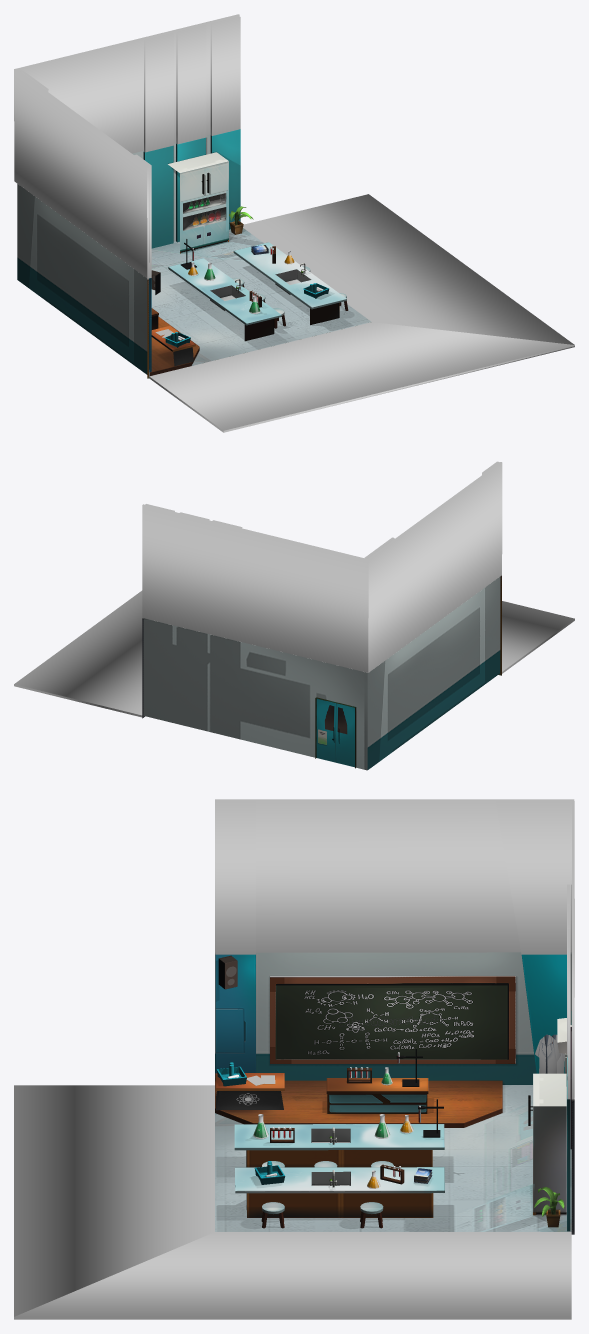
The model's file is Tx_Interior_Education_Science_20170727.fbx.
The picture shows the model from 3 angles, top to bottom: view 1: azimuth 30°, elevation 25°; view 2: azimuth 150°, elevation 25°; view 3: azimuth 270°, elevation 25°; orthographic projection. The views are drawn at different scales.
Parts seen in each view (by area): view 1: Tx_Interior_Education_Computing_20170703:polySurface798, Tx_Interior_Education_Computing_20170703:group12, Tx_Interior_Education_Computing_20170703:polySurface795; view 2: Tx_Interior_Education_Computing_20170703:polySurface798, Tx_Interior_Education_Computing_20170703:group12; view 3: Tx_Interior_Education_Computing_20170703:polySurface798, Tx_Interior_Education_Computing_20170703:group12, Tx_Interior_Education_Computing_20170703:polySurface795.
Part boxes in pixels (x1,y1,x2,y2): Tx_Interior_Education_Computing_20170703:polySurface798: [14, 14, 574, 432]; Tx_Interior_Education_Computing_20170703:group12: [17, 129, 371, 378]; Tx_Interior_Education_Computing_20170703:polySurface795: [171, 246, 323, 342]; Tx_Interior_Education_Computing_20170703:polySurface798: [14, 461, 574, 717]; Tx_Interior_Education_Computing_20170703:group12: [142, 575, 501, 770]; Tx_Interior_Education_Computing_20170703:polySurface798: [14, 799, 574, 1319]; Tx_Interior_Education_Computing_20170703:group12: [215, 952, 574, 1234]; Tx_Interior_Education_Computing_20170703:polySurface795: [227, 1062, 413, 1188].
Size of the model in its own units: 82.41 by 47.3 by 83.76.
